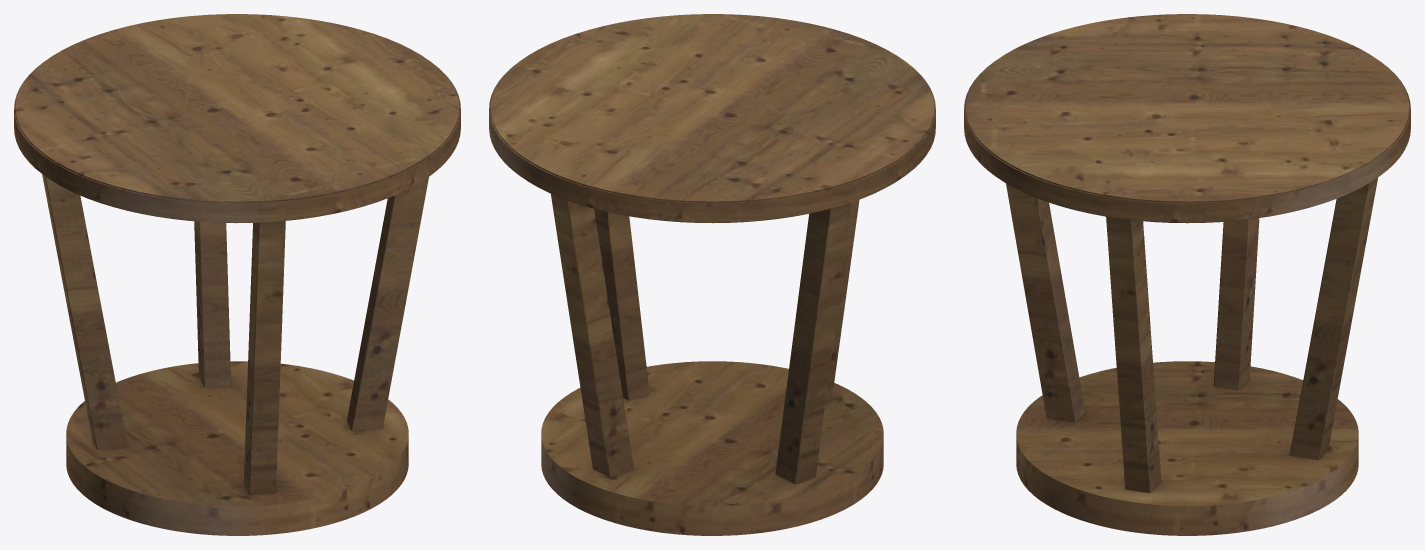
File: raw_model.obj
3 views of the same model, side by side, from view 1: azimuth 30°, elevation 25°; view 2: azimuth 150°, elevation 25°; view 3: azimuth 270°, elevation 25° (orthographic).
Visible parts, largest first — view 1: solid; view 2: solid; view 3: solid.
Boxes of the visible parts, left/top/right/bottom form: solid: left=14, top=14, right=460, bottom=535; solid: left=489, top=14, right=935, bottom=535; solid: left=964, top=14, right=1410, bottom=535.
Size of the model in its own units: 0.6 by 0.5271 by 0.6.
1 material, 1 textured.
